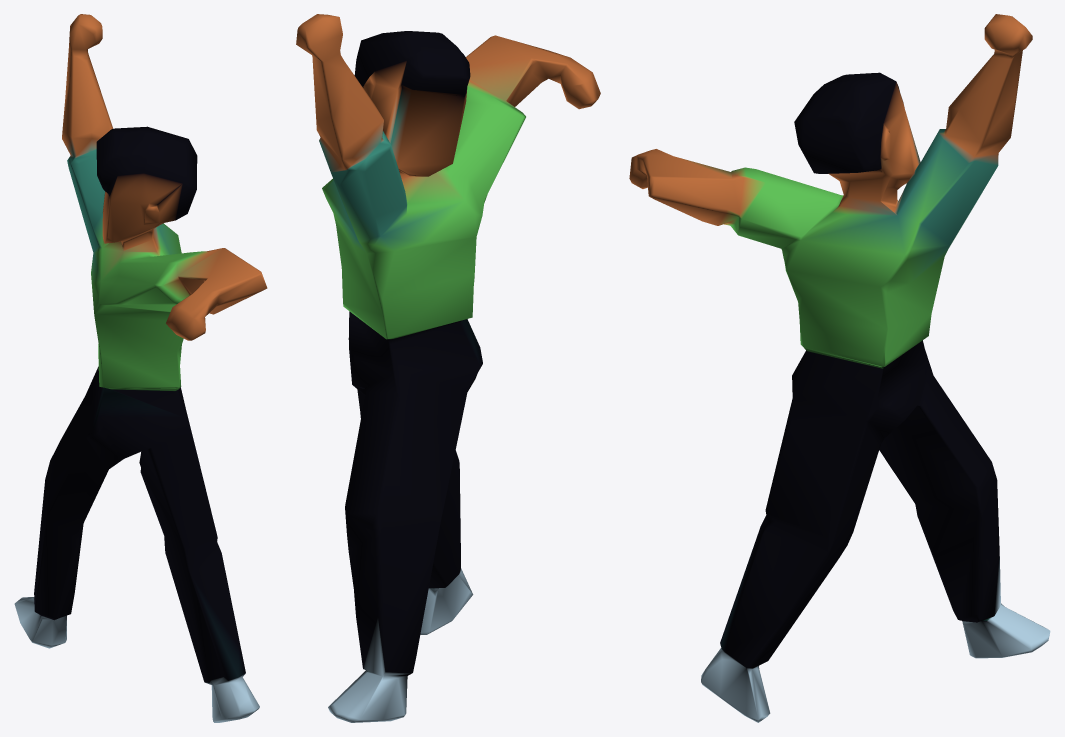
File: gen3d-dance-lod1.glb
3 views of the same model, side by side, from view 1: azimuth 30°, elevation 25°; view 2: azimuth 150°, elevation 25°; view 3: azimuth 270°, elevation 25° (orthographic). The views are drawn at different scales.
Parts seen in each view (by area): view 1: part_0; view 2: part_0; view 3: part_0.
Part boxes in pixels (x1=…): part_0: x1=14, y1=14, x2=267, y2=722; part_0: x1=296, y1=14, x2=600, y2=722; part_0: x1=629, y1=14, x2=1050, y2=722.
Size of the model in its own units: 0.2193 by 0.9991 by 0.5586.
